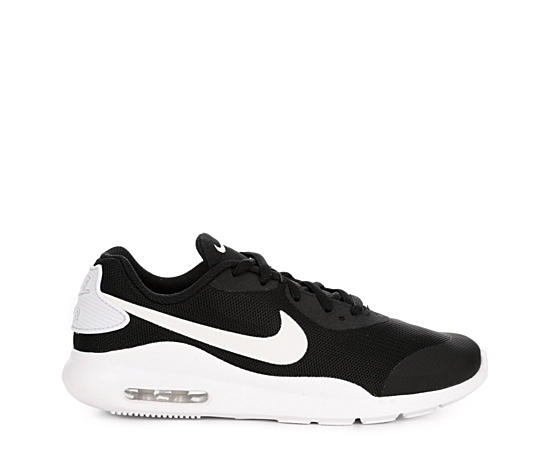shoe: (39, 235, 514, 422)
